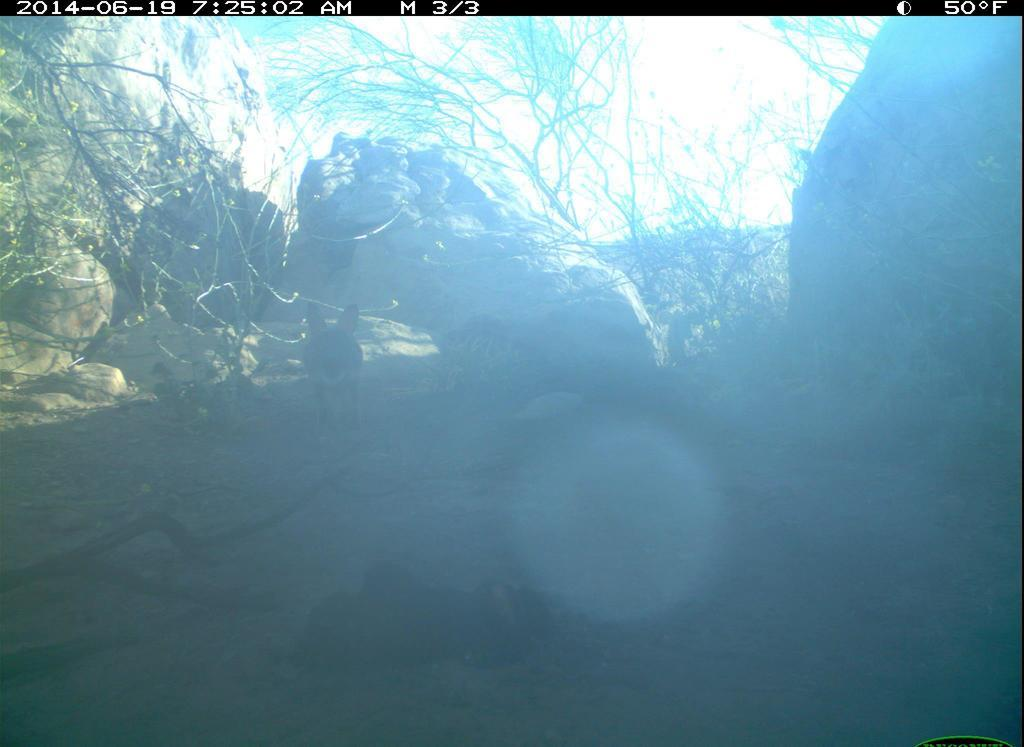rabbit: (300, 299, 373, 440)
